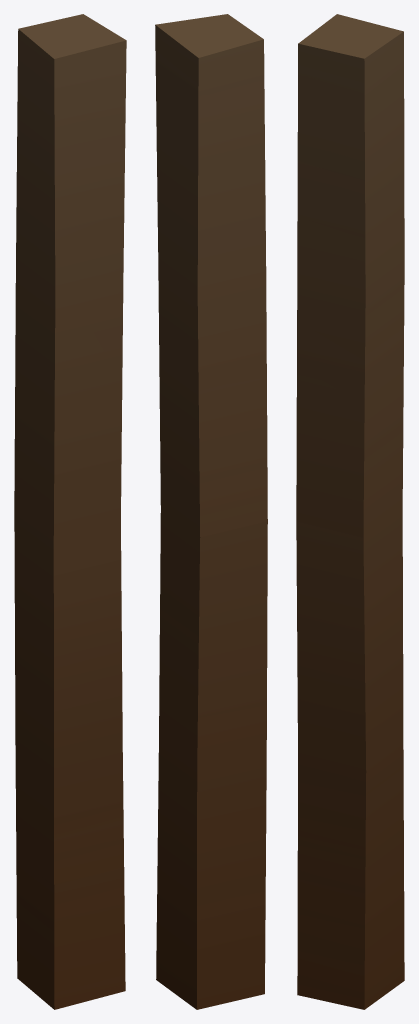
The model's file is Viga_02.fbx.
3 renders of one model, left to right at view 1: azimuth 30°, elevation 25°; view 2: azimuth 210°, elevation 25°; view 3: azimuth 330°, elevation 25°, orthographic.
Parts seen in each view (by area): view 1: Cube.033; view 2: Cube.033; view 3: Cube.033.
Boxes of the visible parts, left/top/right/bottom form: Cube.033: left=14, top=14, right=126, bottom=1009; Cube.033: left=155, top=14, right=267, bottom=1009; Cube.033: left=296, top=14, right=404, bottom=1009.
Bounding box in the file's own units: 24.63 × 319 × 25.39.
